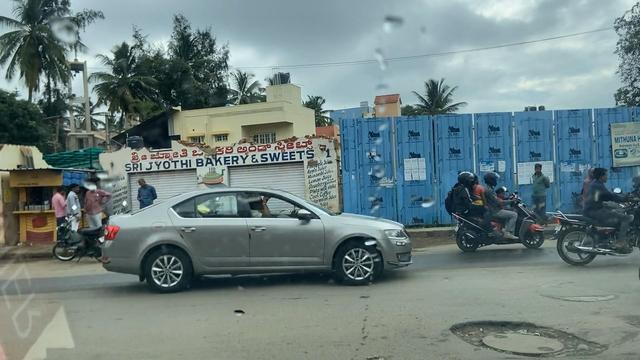LMV: (100, 182, 409, 300), (443, 171, 540, 254), (559, 173, 639, 262)
RoadDamages: (447, 317, 601, 356), (536, 286, 624, 307), (618, 312, 640, 344)
